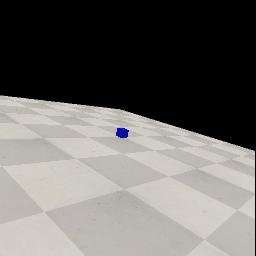box: (116, 128, 129, 138)
